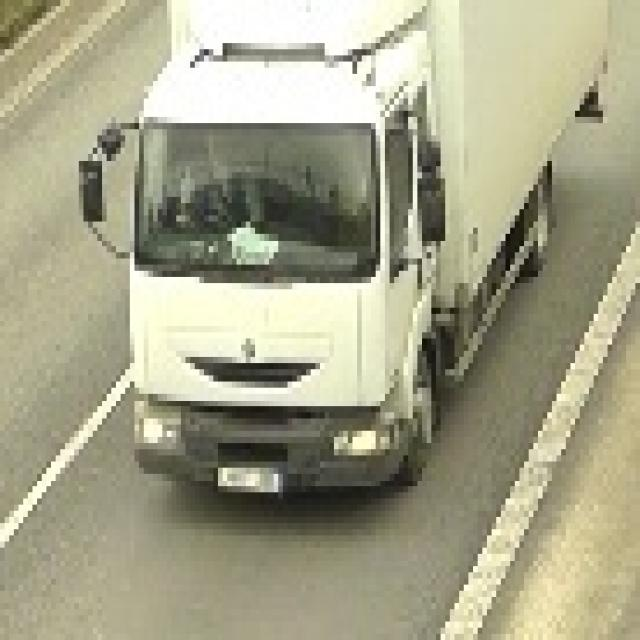truck: (78, 0, 598, 498)
